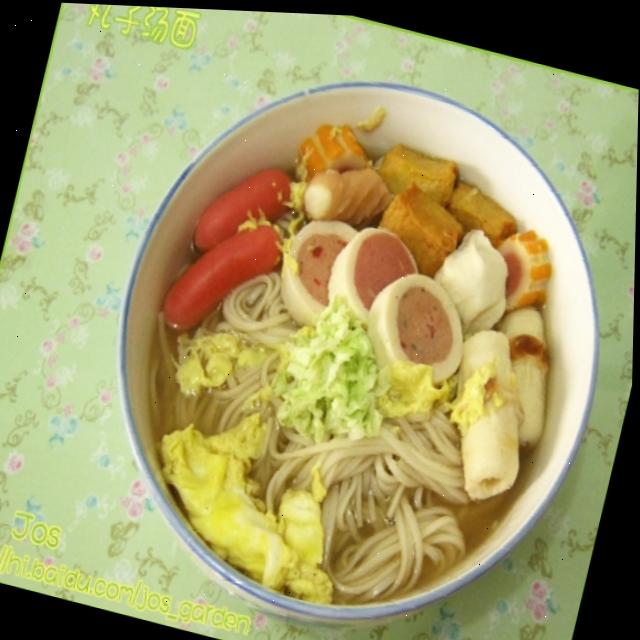面条主食: (64, 36, 637, 640)
